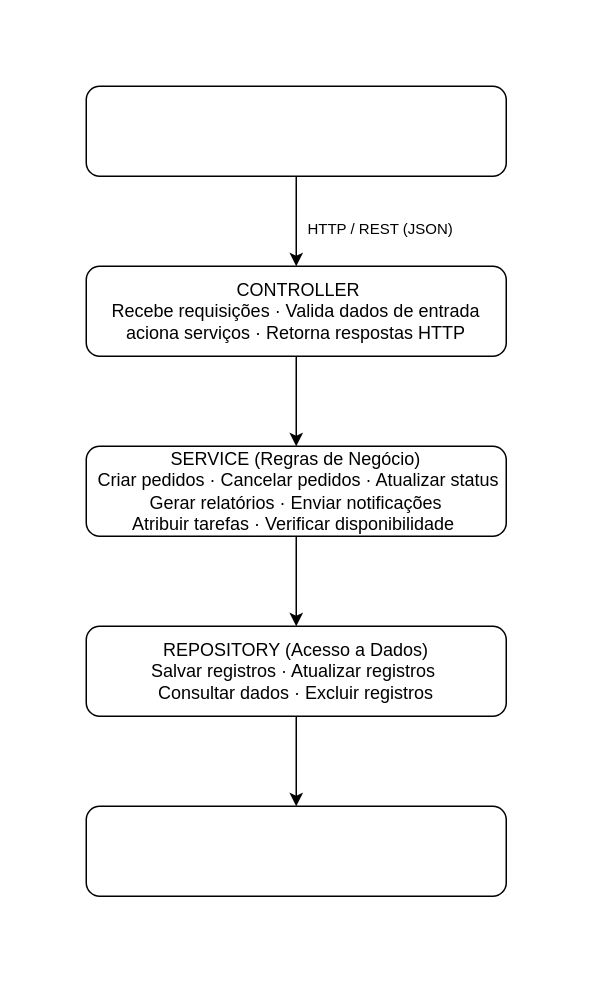
Image size: 606x996. Some labels were removed from this diagram. The centre of each missing label's shape, as x and y in pixels:
"BANCO DE DADOS Persiste todas as entidades do sistema" belongs at pixel 295 850.
"FRONTEND Interface do hóspede · Interface do gestor Interface do funcionário" belongs at pixel 295 130.
